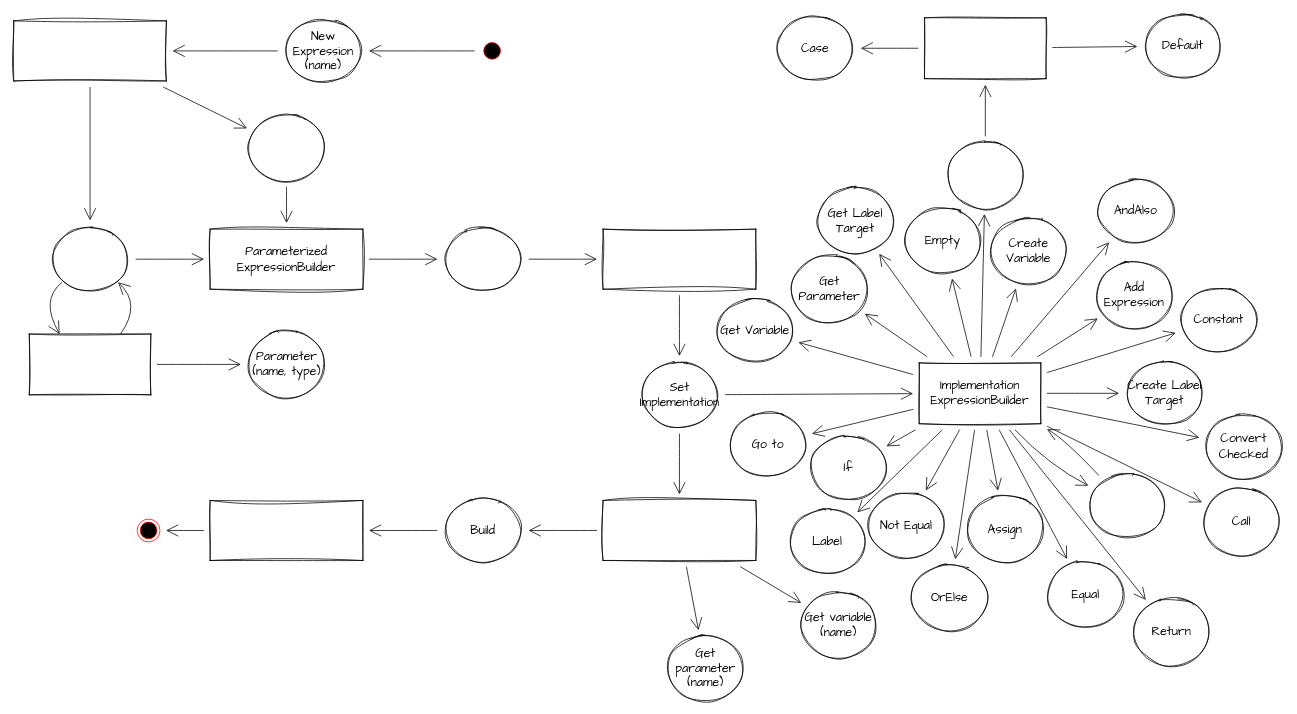
This 1297x714 diagram has some shape labels left out. The shapes that lost their labels are listed below. From the top down, each one's centre as x and y in pixels, then its label:
(89,50): Named ExpressionBuilder
(985,48): Switch ExpressionBuilder
(286,147): Without Parameters
(985,175): Switch
(90,259): With Parameters
(482,259): Having Return
(679,258): Configured Signature ExpressionBuilder
(89,364): Parameters Configuration
(1127,505): Block
(286,530): Expression
(679,530): Configured ExpressionBuilder
